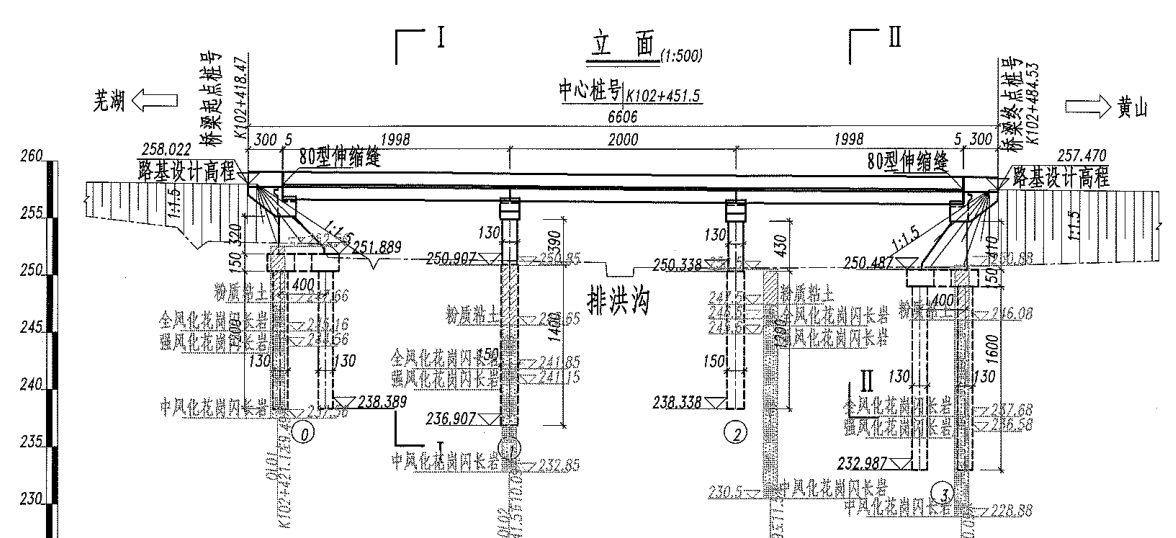A: (241, 106, 1007, 132)
C: (839, 252, 976, 505), (410, 193, 534, 465), (643, 192, 759, 450)
